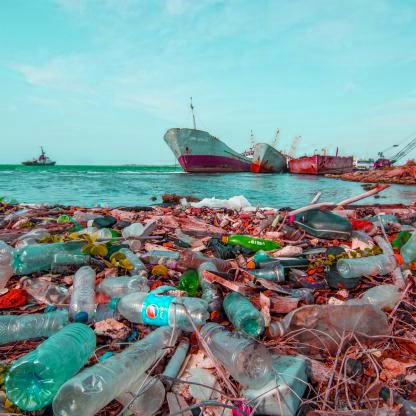Plastic: (60, 327, 182, 415), (11, 319, 101, 415), (199, 318, 276, 389), (113, 285, 207, 330), (284, 204, 358, 241), (12, 243, 90, 274), (1, 312, 71, 342), (335, 251, 405, 279), (223, 290, 266, 335), (69, 265, 100, 322), (221, 232, 282, 254)
